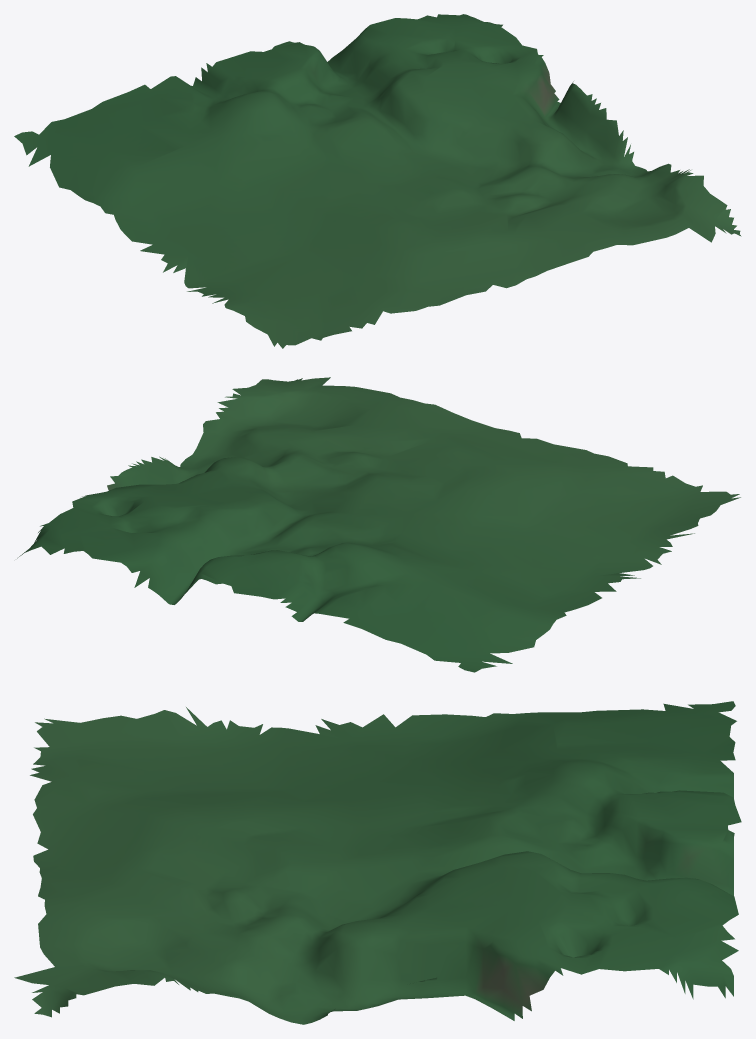
File: payo_land_xm1_y7_lod1.glb
The picture shows the model from 3 angles, top to bottom: view 1: azimuth 30°, elevation 25°; view 2: azimuth 150°, elevation 25°; view 3: azimuth 270°, elevation 25°; orthographic projection. The views are drawn at different scales.
Parts seen in each view (by area): view 1: payo_land_xm1_y7; view 2: payo_land_xm1_y7; view 3: payo_land_xm1_y7.
Part boxes in pixels (x1,y1,x2,y2): payo_land_xm1_y7: [14, 14, 741, 348]; payo_land_xm1_y7: [17, 377, 740, 672]; payo_land_xm1_y7: [14, 701, 741, 1024].
Size of the model in its own units: 267 by 32.01 by 269.
